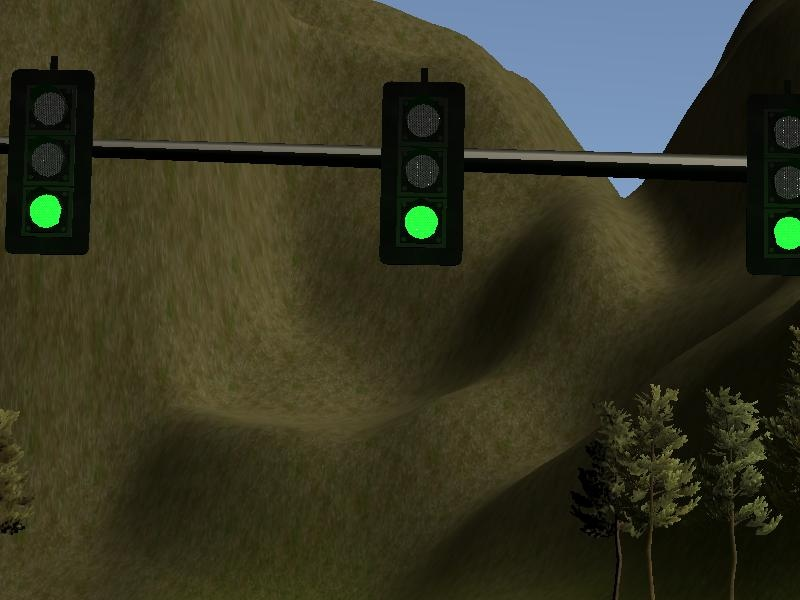GREEN: (2, 69, 95, 255), (380, 79, 464, 265), (749, 93, 800, 279)
